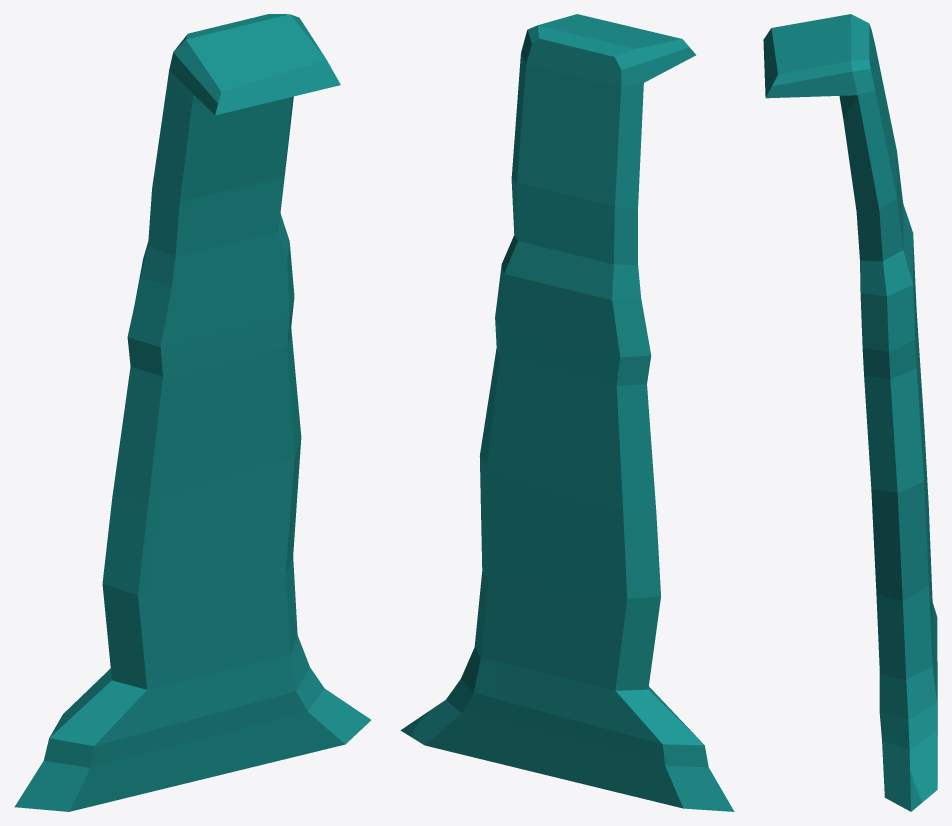
Rendered from CascadaAnimada_000003.obj.
The picture shows the model from 3 angles, left to right: view 1: azimuth 30°, elevation 25°; view 2: azimuth 150°, elevation 25°; view 3: azimuth 270°, elevation 25°; orthographic projection. The views are drawn at different scales.
Visible parts, largest first — view 1: Cube.053, Cube.054; view 2: Cube.053, Cube.054; view 3: Cube.053, Cube.054.
Boxes of the visible parts, <box> form: Cube.053: <box>14,14,370,811</box>; Cube.054: <box>169,14,340,115</box>; Cube.053: <box>400,25,734,811</box>; Cube.054: <box>538,14,695,82</box>; Cube.053: <box>839,14,937,811</box>; Cube.054: <box>763,14,857,98</box>.
Bounding box in the file's own units: 136 × 277 × 62.23.
